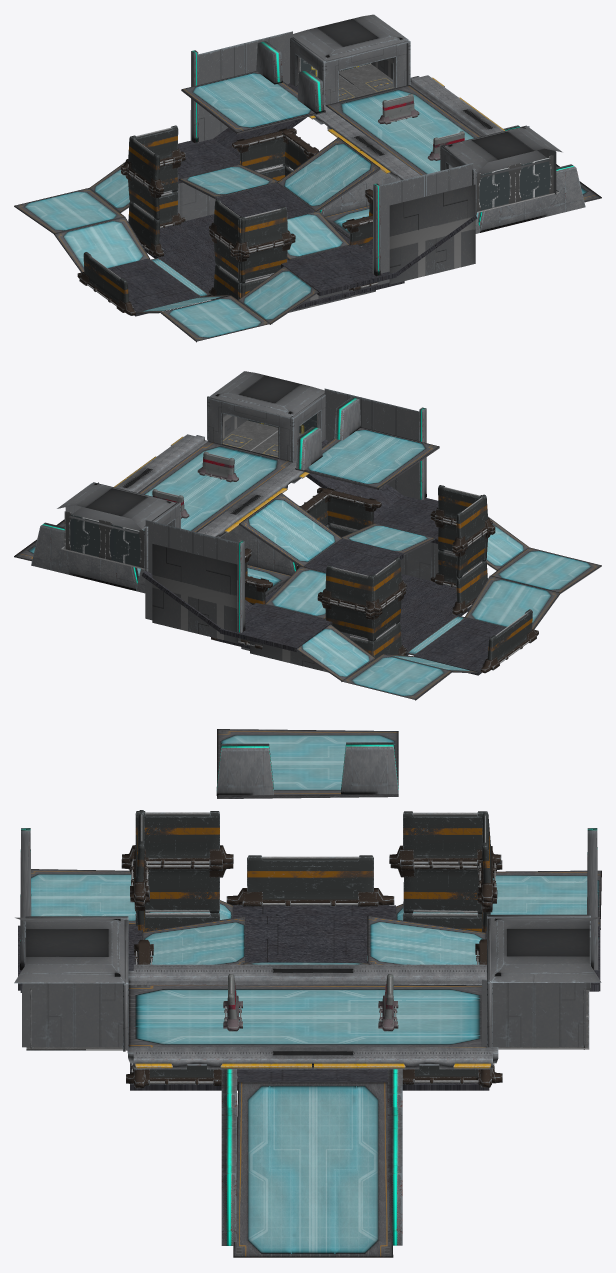
The model's file is AbeStage2_6.fbx.
3 views of the same model, one above another, from view 1: azimuth 30°, elevation 25°; view 2: azimuth 150°, elevation 25°; view 3: azimuth 270°, elevation 25° (orthographic). The views are drawn at different scales.
Visible parts, largest first — view 1: Spaceship_room_wall1_mdl__4_, shipboard_mdl, shipboard_mdl_4, shipboard_mdl_1, Spaceship_room_ceiling_mdl__1_, Docking_Floors_mdl__6_, Spaceship_room_wall1_mdl__7_, Spaceship_room_ceiling_mdl__2_, Spaceship_shipboard_mdl__6_, Spaceship_shipboard_mdl__8_, Spaceship_shipboard_mdl__3_, spaceship_shipboard_wall_mdl_1 (+45 smaller); view 2: Spaceship_room_wall1_mdl__7_, shipboard_mdl, shipboard_mdl_4, shipboard_mdl_1, Spaceship_room_ceiling_mdl__2_, Spaceship_room_wall1_mdl__4_, spaceship_shipboard_wall_mdl_3, Spaceship_shipboard_mdl__1_, Spaceship_room_ceiling_mdl__1_, Docking_Floors_mdl__8_, Spaceship_shipboard_mdl__8_, Spaceship_shipboard_mdl__3_ (+45 smaller); view 3: Spaceship_shipboard_mdl__5_, shipboard_mdl, Spaceship_docking_side_mdl, Spaceship_docking_side_mdl_1, shipboard_mdl_4, Barricade_mdl, Spaceship_room_ceiling_mdl__2_, Spaceship_room_ceiling_mdl__1_, Spaceship_room_wall2_mdl__1_, Spaceship_room_wall2_mdl__2_, Docking_Floors_mdl__10_, Spaceship_shipboard_mdl__3_ (+25 smaller).
Part boxes in pixels (x1,y1,x2,y2): Spaceship_room_wall1_mdl__4_: (377, 163, 475, 284); shipboard_mdl: (325, 85, 481, 175); shipboard_mdl_4: (181, 71, 325, 134); shipboard_mdl_1: (277, 137, 380, 211); Spaceship_room_ceiling_mdl__1_: (444, 126, 562, 177); Docking_Floors_mdl__6_: (281, 244, 396, 295); Spaceship_room_wall1_mdl__7_: (198, 31, 292, 142); Spaceship_room_ceiling_mdl__2_: (292, 14, 409, 60); Spaceship_shipboard_mdl__6_: (54, 217, 150, 272); Spaceship_shipboard_mdl__8_: (14, 188, 125, 233); Spaceship_shipboard_mdl__3_: (160, 295, 269, 342); spaceship_shipboard_wall_mdl_1: (477, 164, 585, 232); Spaceship_room_wall1_mdl__7_: (145, 520, 240, 643); shipboard_mdl: (138, 441, 292, 532); shipboard_mdl_4: (295, 427, 439, 489); shipboard_mdl_1: (239, 493, 342, 566); Spaceship_room_ceiling_mdl__2_: (57, 483, 176, 533); Spaceship_room_wall1_mdl__4_: (324, 388, 419, 499); spaceship_shipboard_wall_mdl_3: (31, 522, 138, 590); Spaceship_shipboard_mdl__1_: (464, 575, 560, 629); Spaceship_room_ceiling_mdl__1_: (209, 371, 324, 417); Docking_Floors_mdl__8_: (220, 603, 332, 651); Spaceship_shipboard_mdl__8_: (341, 654, 452, 700); Spaceship_shipboard_mdl__3_: (491, 547, 601, 593); Spaceship_shipboard_mdl__5_: (233, 1082, 393, 1257); shipboard_mdl: (127, 984, 486, 1052); Spaceship_docking_side_mdl: (128, 964, 312, 1069); Spaceship_docking_side_mdl_1: (313, 964, 498, 1069); shipboard_mdl_4: (217, 729, 398, 798); Barricade_mdl: (226, 855, 394, 906); Spaceship_room_ceiling_mdl__2_: (491, 917, 601, 989); Spaceship_room_ceiling_mdl__1_: (14, 917, 124, 983); Spaceship_room_wall2_mdl__1_: (22, 979, 125, 1047); Spaceship_room_wall2_mdl__2_: (481, 979, 586, 1046); Docking_Floors_mdl__10_: (245, 916, 366, 962); Spaceship_shipboard_mdl__3_: (31, 869, 147, 925).
Size of the model in its own units: 3316 by 1307 by 2279.
